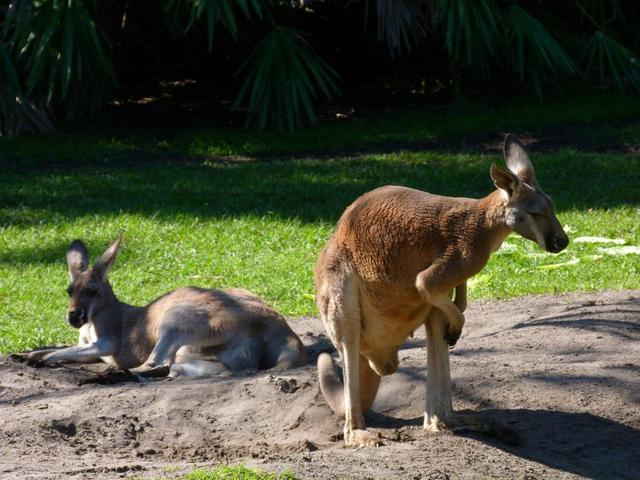kangaroo: (268, 114, 579, 480), (14, 187, 338, 409)
